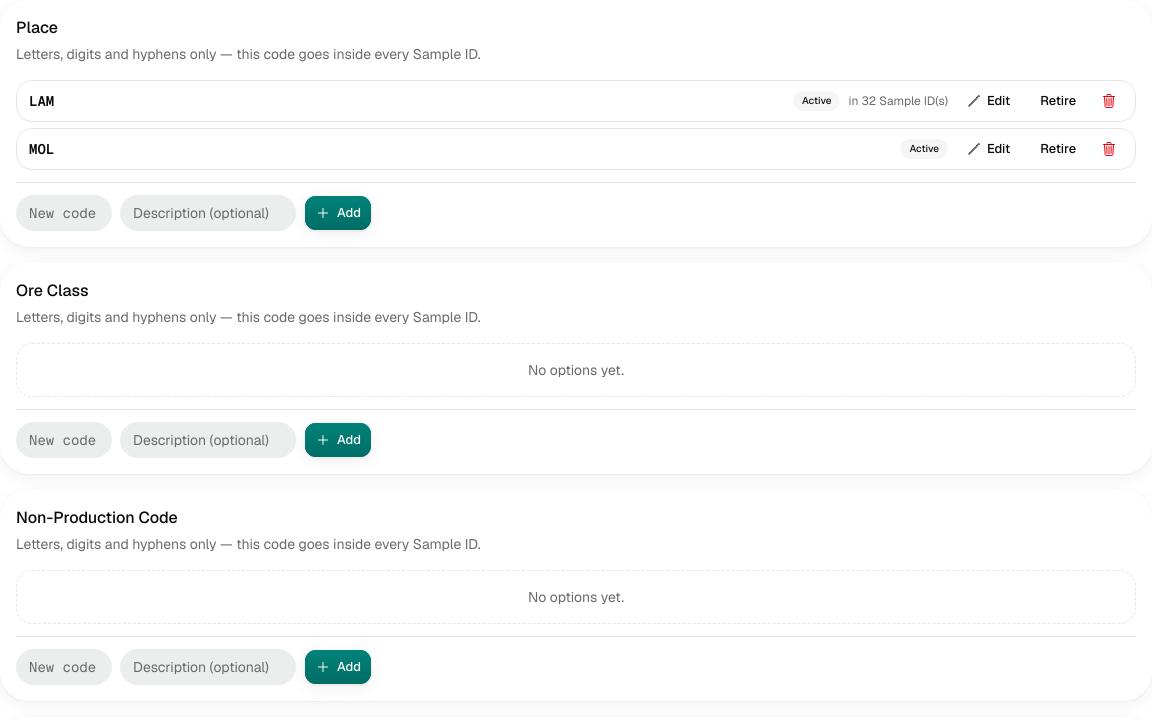
MasterDataTables › locks the code of an option something already uses, and says why
This screenshot has width=1152, height=720.
Expected: the text "LAM" is shown, left=29, top=91, right=54, bottom=111
# The first Edit belongs to LAM, the one with 32 uses.
Step 1. Click the button "Edit" in the row of "LAM" → (989, 101), box left=956, top=87, right=1021, bottom=115
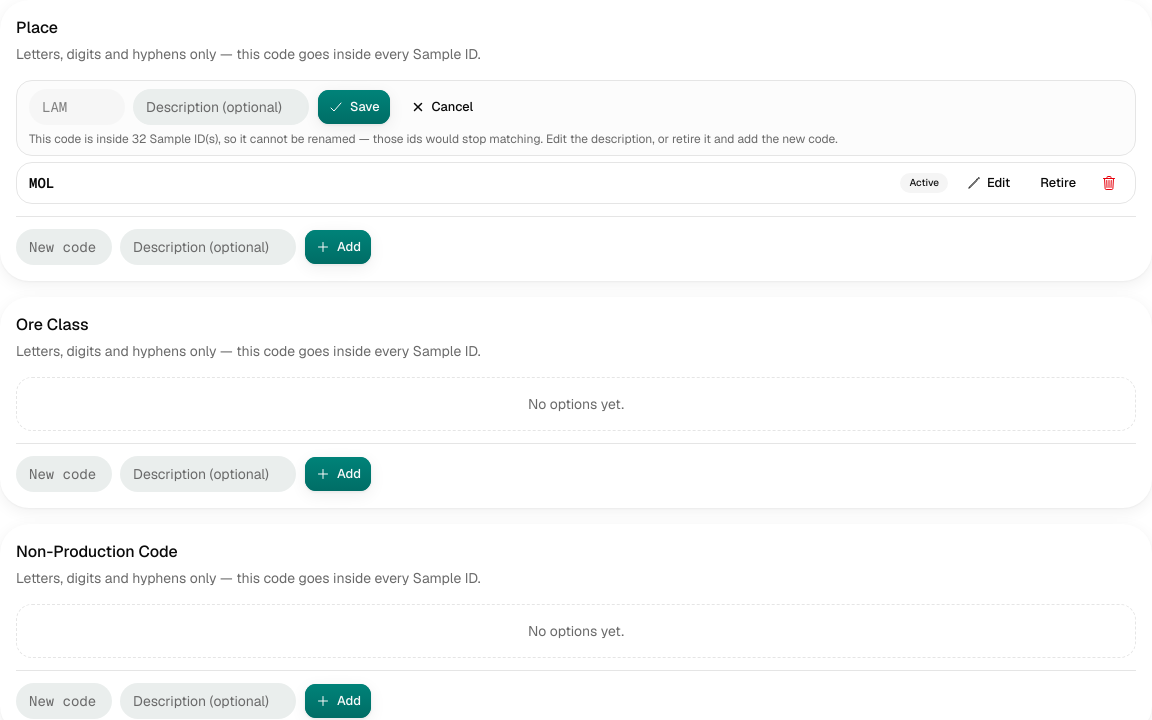
Expected: the field showing "LAM" is disabled, left=29, top=89, right=125, bottom=125
Expected: the text "cannot be renamed" is shown, left=29, top=131, right=838, bottom=147
